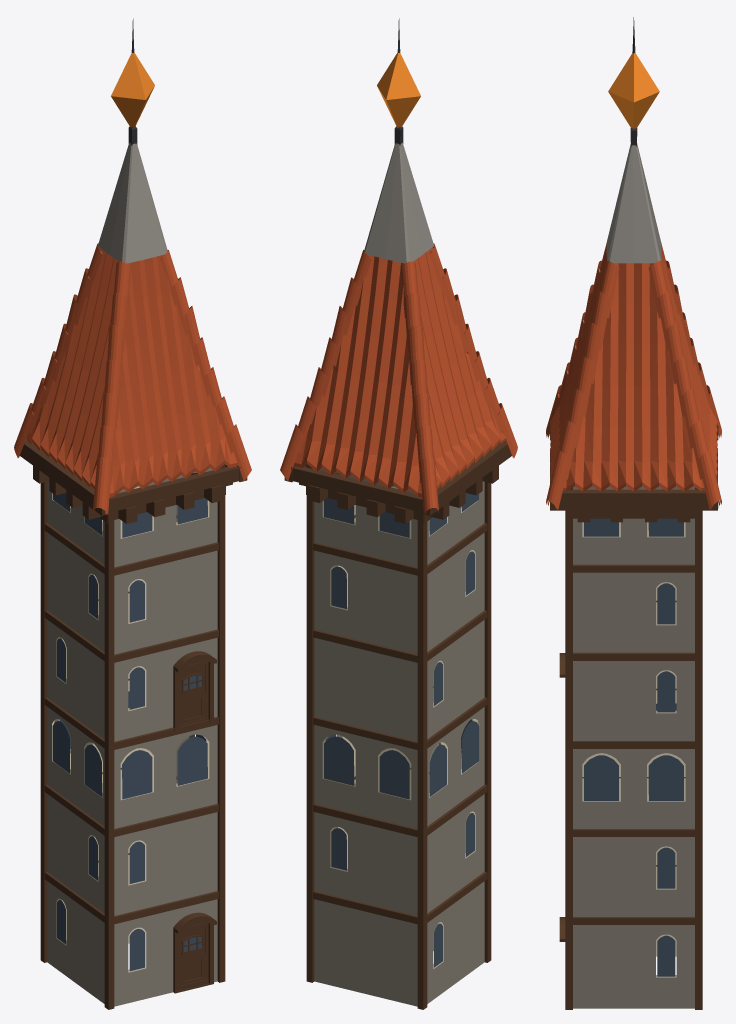
The model's file is mage_tower.obj.
3 views of the same model, side by side, from view 1: azimuth 30°, elevation 25°; view 2: azimuth 150°, elevation 25°; view 3: azimuth 270°, elevation 25° (orthographic).
Bounding box in the file's own units: 5.65 × 32.94 × 5.43.
